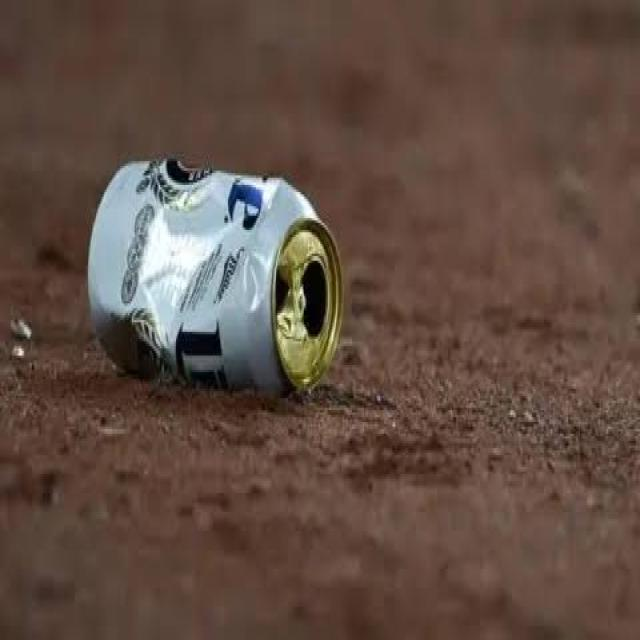can: (90, 143, 347, 435)
